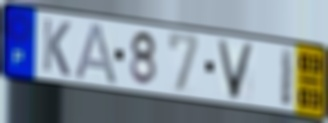7: (166, 31, 204, 97)
8: (128, 30, 158, 88)
A: (73, 21, 120, 87)
I: (279, 45, 296, 109)
K: (41, 16, 72, 79)
V: (214, 37, 257, 102)
